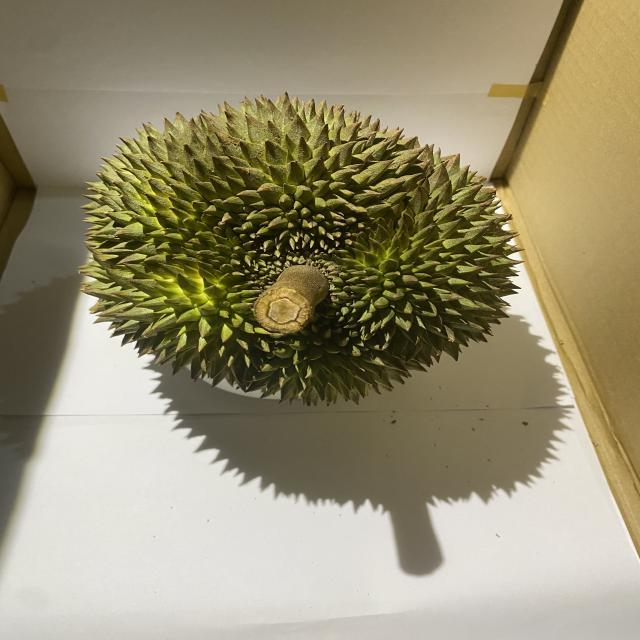immature: (78, 89, 526, 411)
